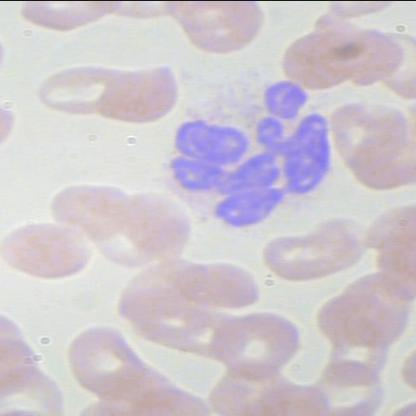RBC: (262, 216, 372, 284), (328, 97, 415, 169), (42, 178, 139, 242), (65, 324, 153, 394), (280, 20, 368, 90), (211, 313, 304, 378), (1, 220, 95, 284), (124, 188, 201, 256), (38, 60, 120, 122), (99, 62, 181, 123), (178, 1, 268, 55), (174, 258, 266, 310), (319, 292, 396, 350), (209, 365, 298, 415), (312, 359, 391, 415), (138, 299, 218, 349)
WBC: (168, 56, 338, 242)
